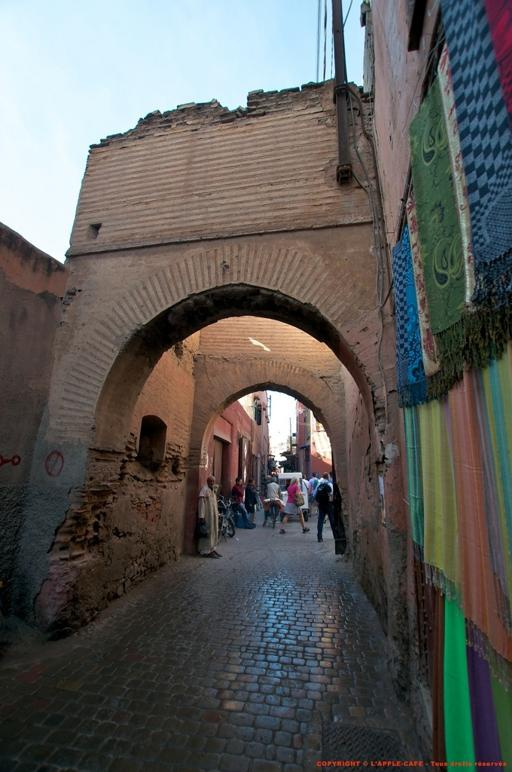non-vehicle: (216, 497, 234, 536), (268, 502, 278, 528)
